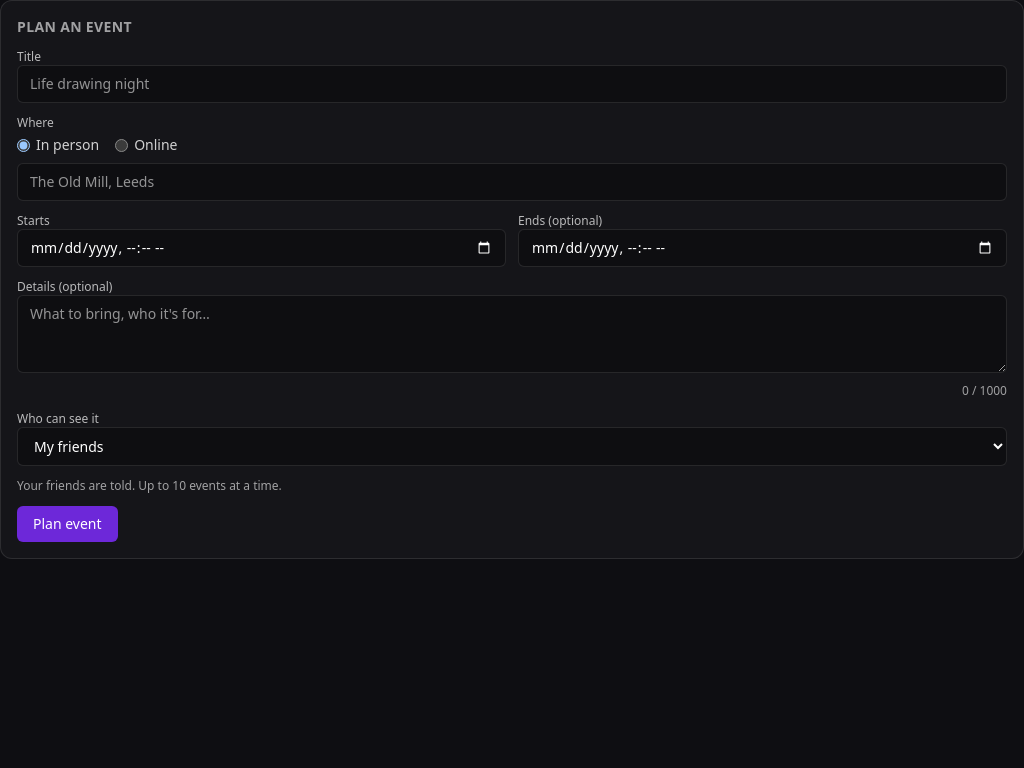
Test: EventForm: planning › asks for a title, a place and a start before sending anything
Step 1. Click the button "Plan event" → (67, 524), box [17,506,118,542]
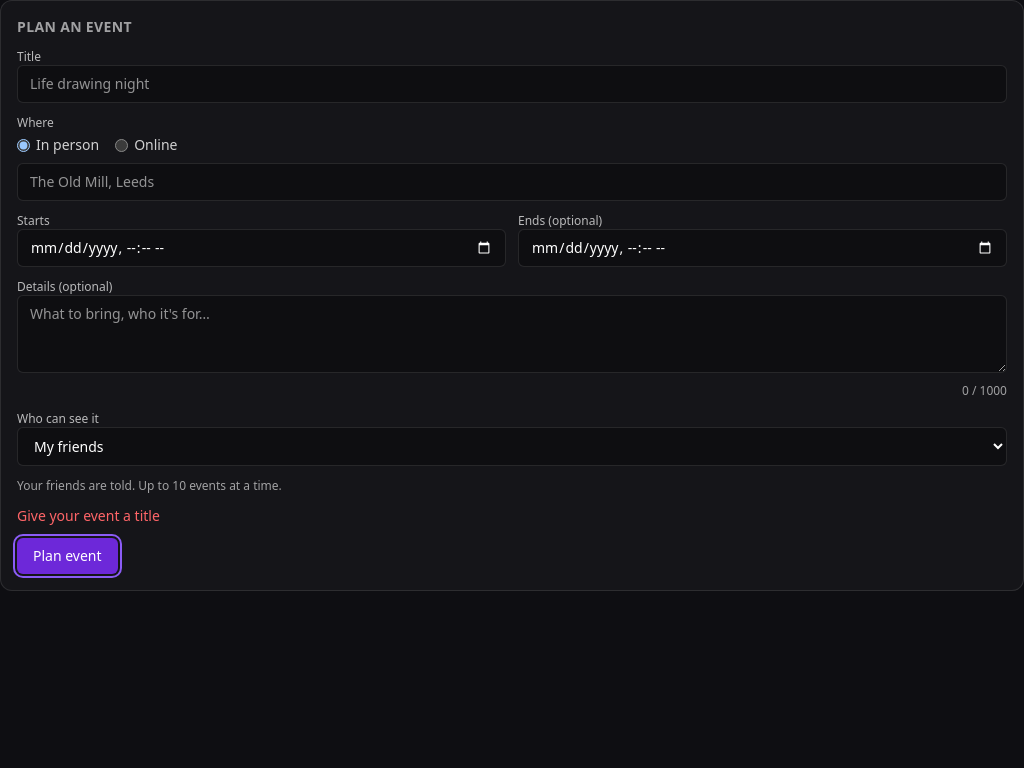
Expected: the message reads "Give your event a title", [17,506,160,525]
Step 2. Type "Show" into the field labelled "Title" → (512, 84), box [17,65,1007,103]
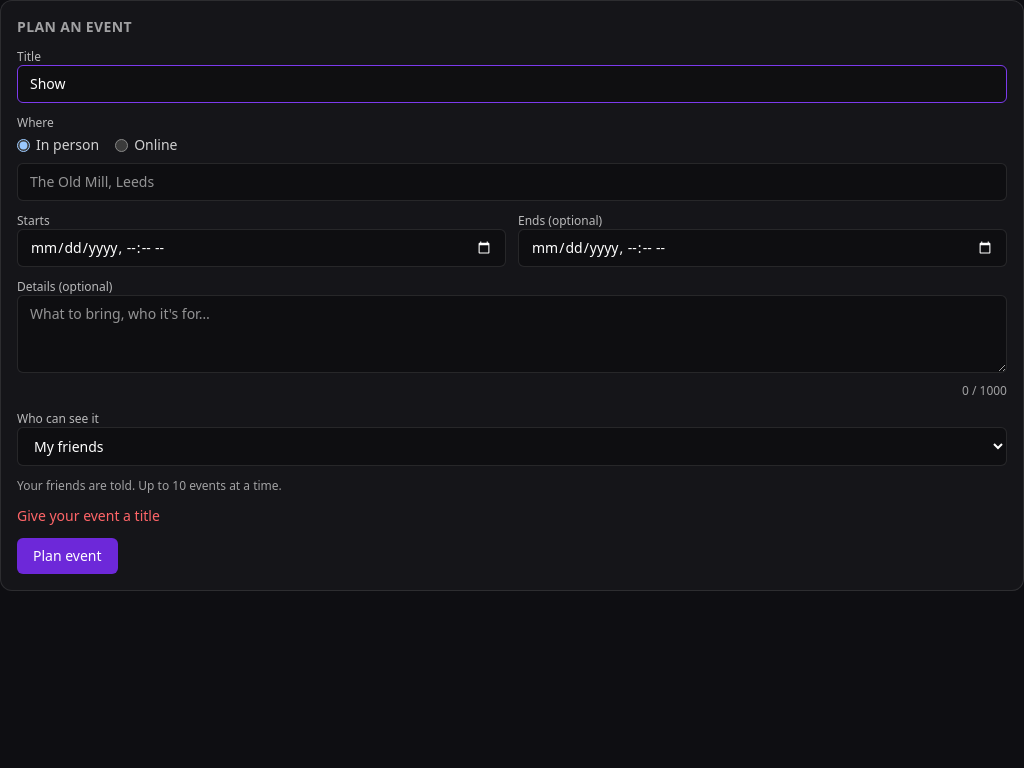
Step 3. Click the button "Plan event" → (67, 556), box [17,538,118,574]
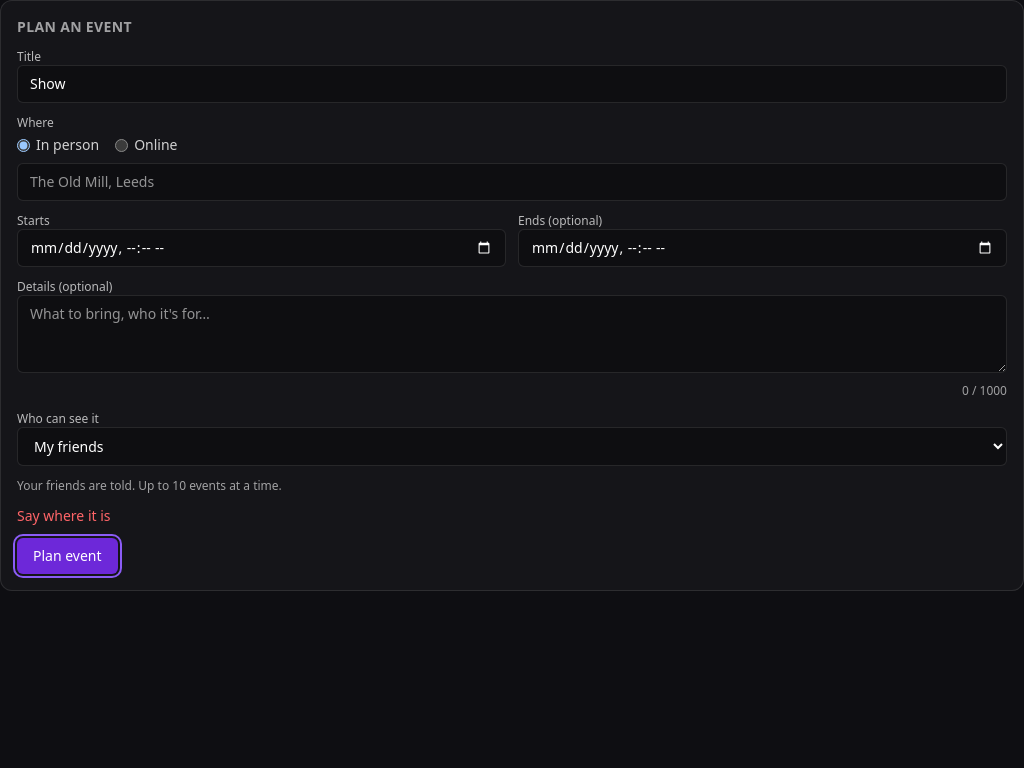
Expected: the message reads "Say where it is", [17,506,110,525]
Step 4. Type "Cafe" into the field named "Place" → (512, 182), box [17,163,1007,201]
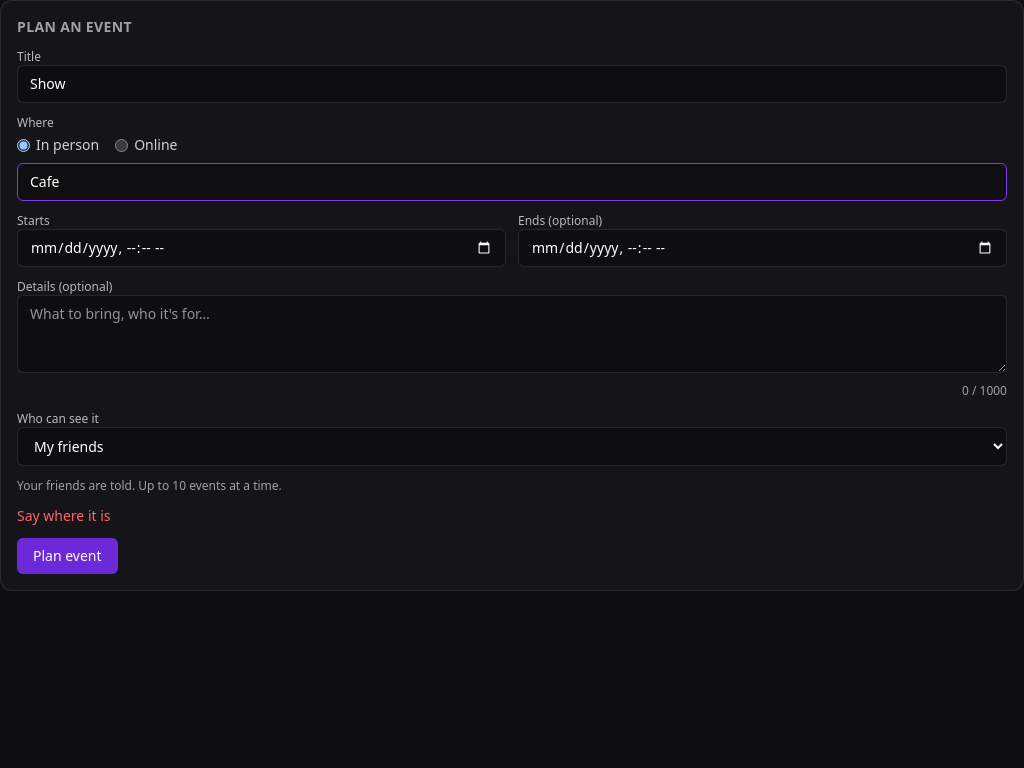
Step 5. Click the button "Plan event" → (67, 556), box [17,538,118,574]
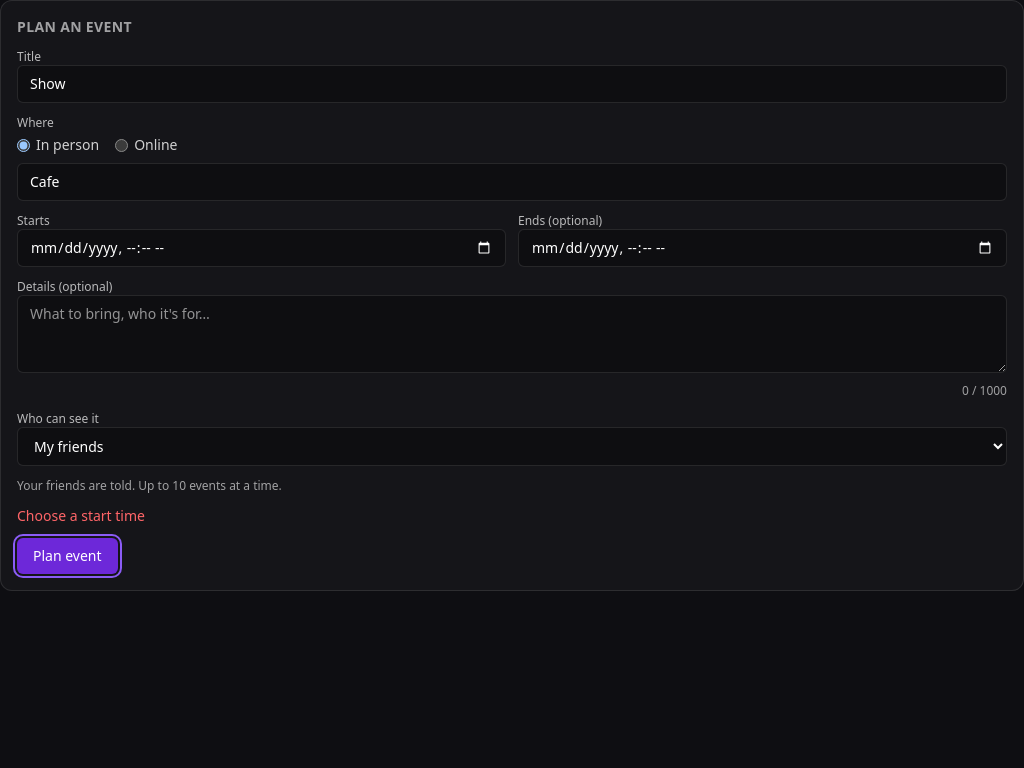
Expected: the message reads "Choose a start time", [17,506,145,525]
